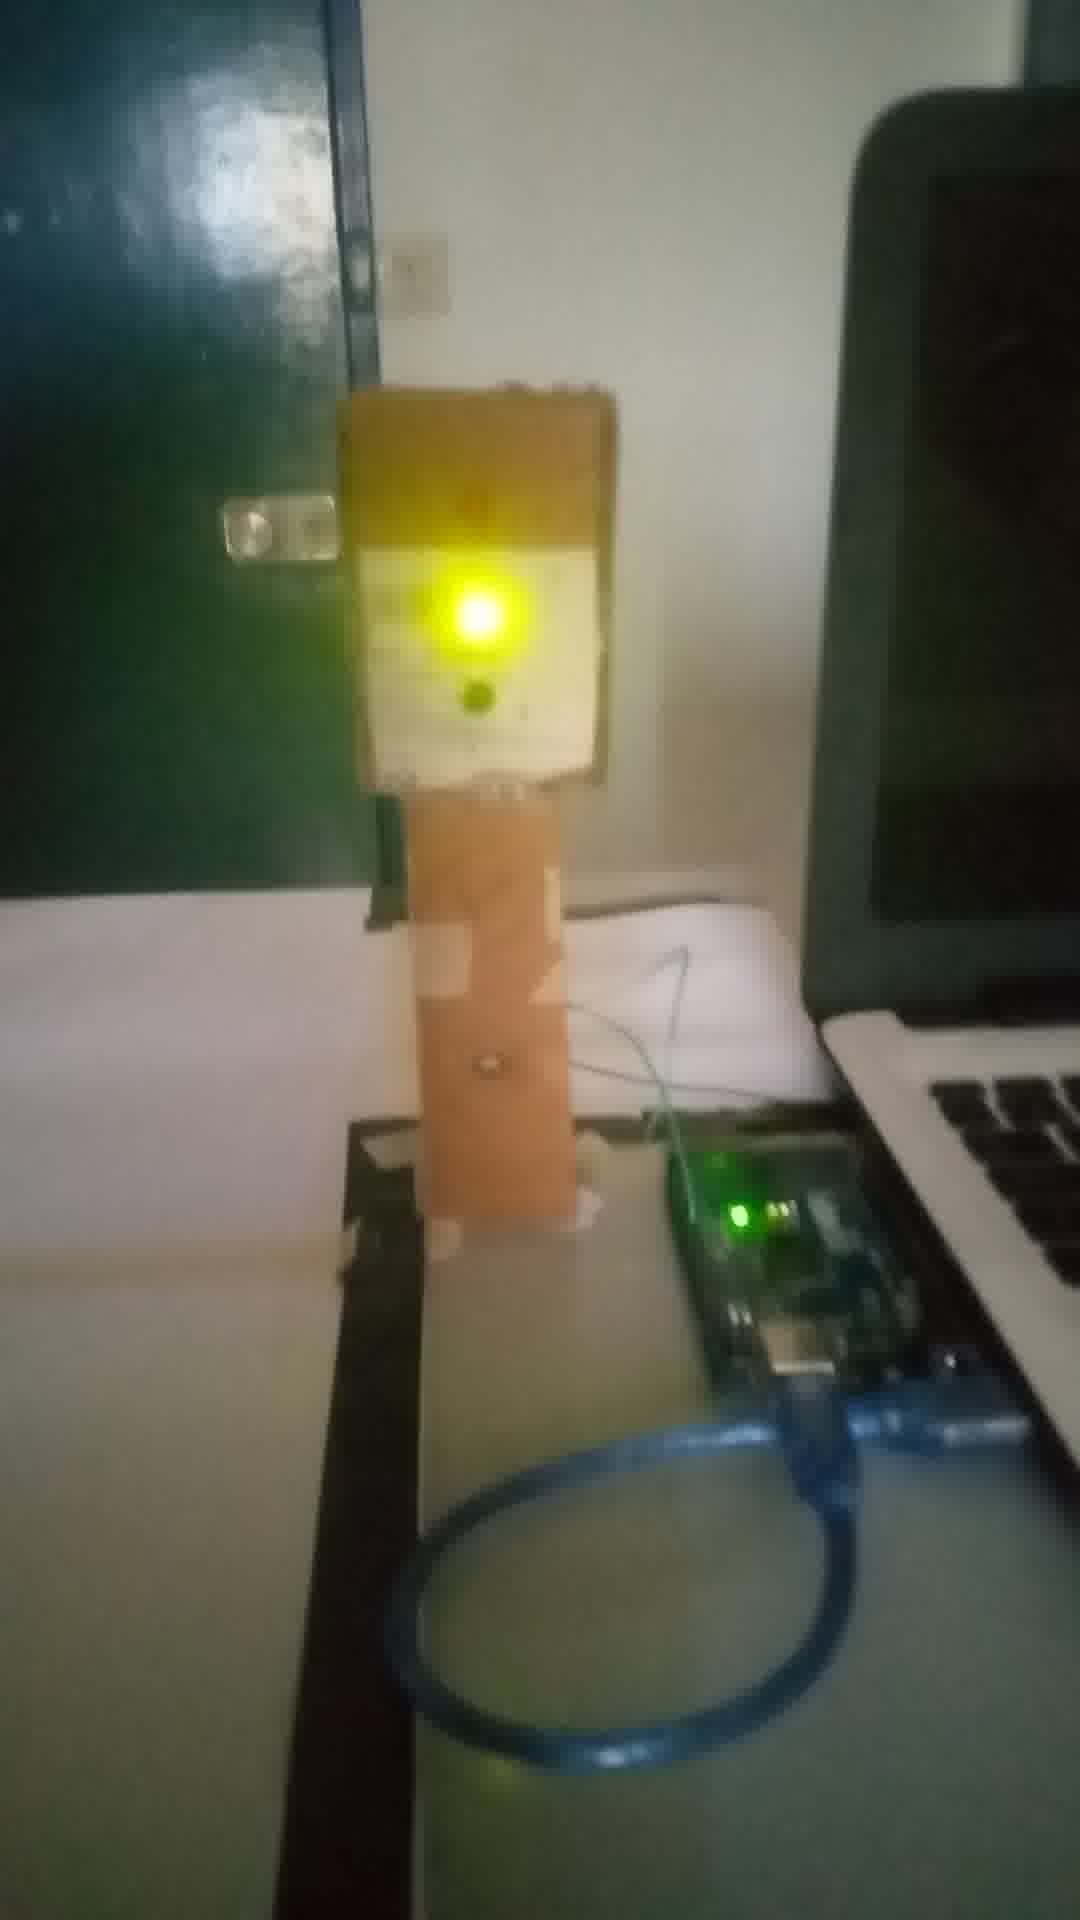yellow: (344, 409, 601, 774)
